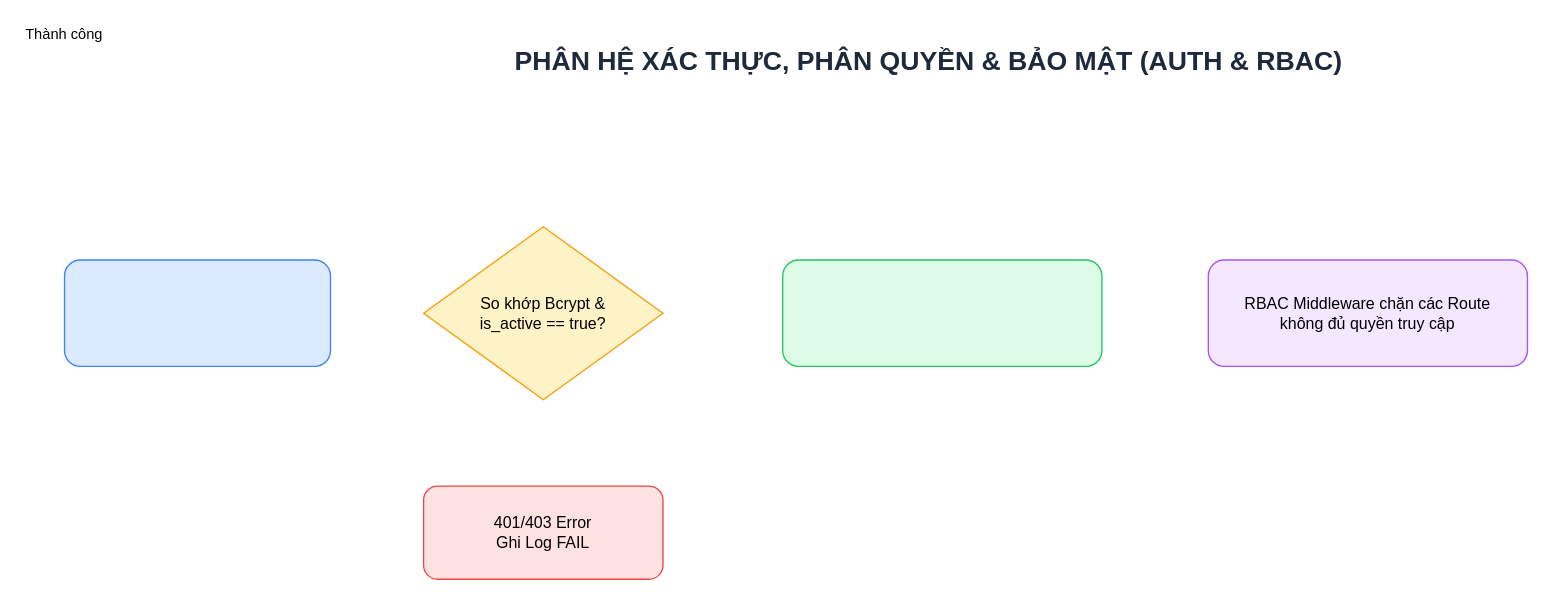
Some shapes in this 1551 by 602 pixel diagram are drawn without their labels. The shapes that lost their labels are listed below. From the top down, each one's centre as x and y in pixels, then its label:
At point 197,312: "Người dùng nhập Username & Password".
At point 941,312: "Cấp JWT Token kèm Role Claims (Admin, GVCN, GVBM, HS)".
